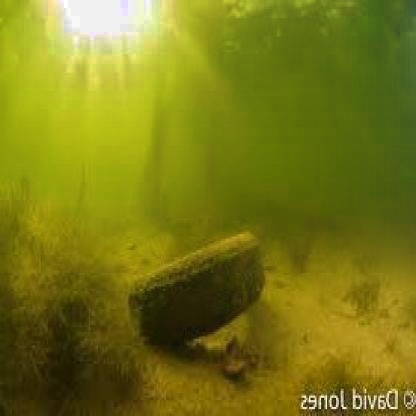tire: (140, 223, 265, 350)
